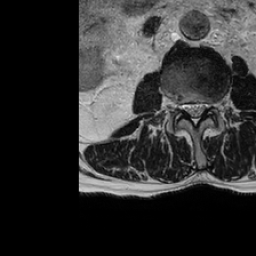CCS_normal: (190, 97, 198, 130)
LFS_severe_stenosis: (207, 97, 214, 116)
LLS_normal: (198, 97, 206, 118)
RFS_stenosis: (177, 98, 185, 117)
RLS_normal: (183, 97, 190, 119)
